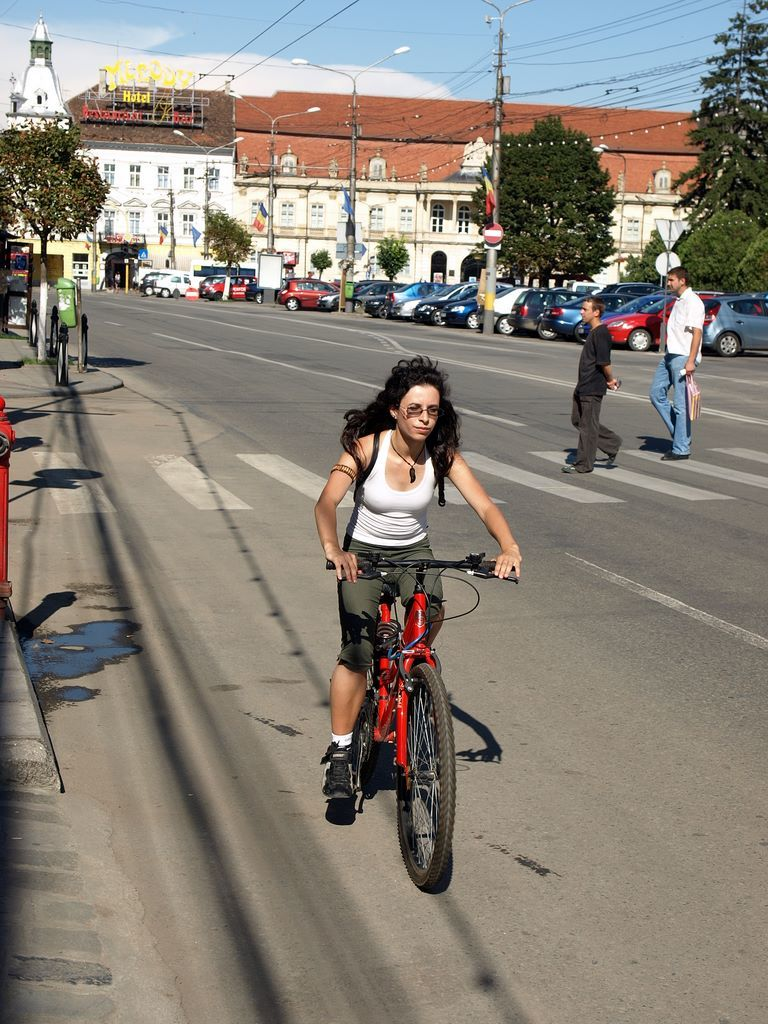Bike: (318, 537, 520, 897)
